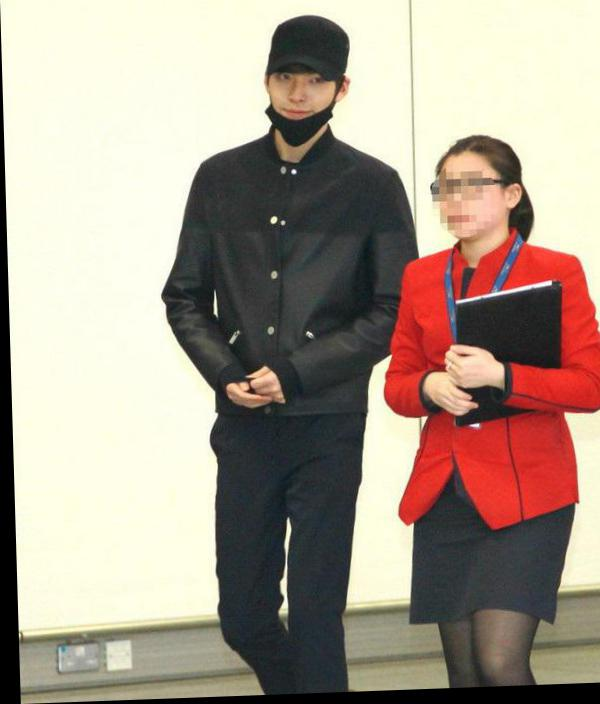NONE: (437, 165, 498, 246)
WRONG: (269, 71, 333, 147)
